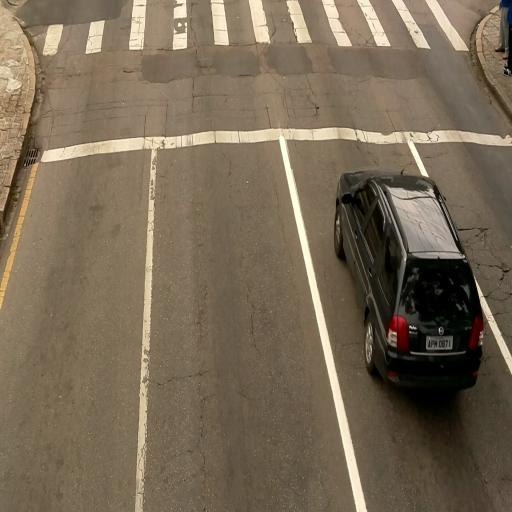car: (335, 170, 482, 391)
